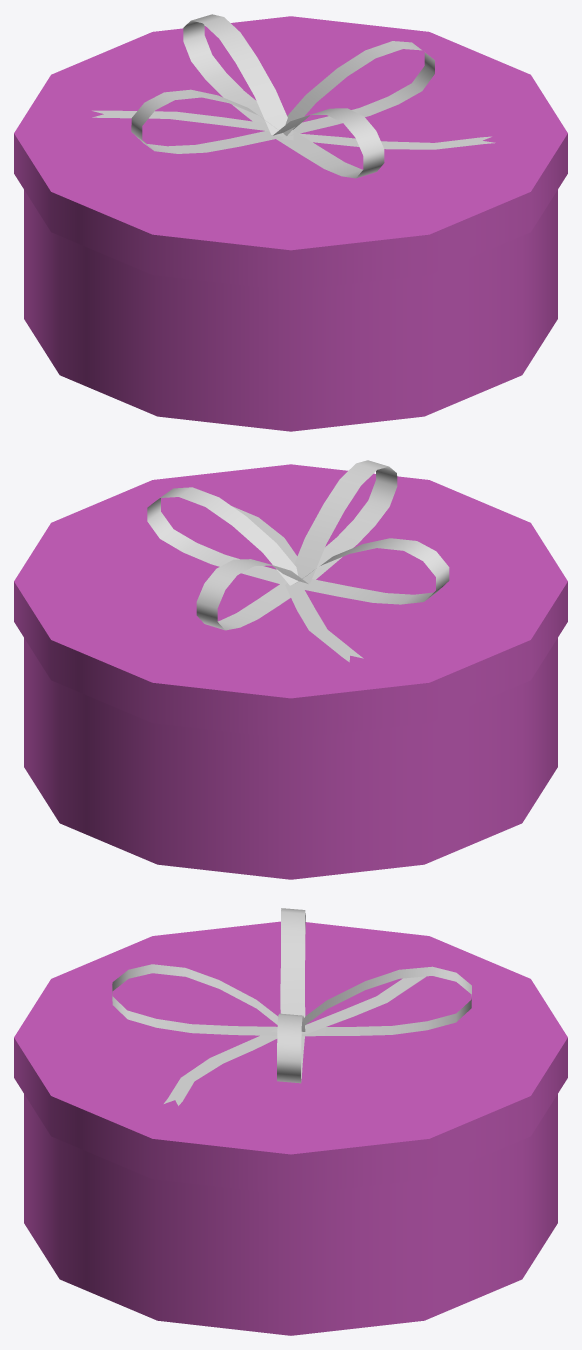
The model's file is PresentRound.fbx.
3 views of the same model, one above another, from view 1: azimuth 30°, elevation 25°; view 2: azimuth 150°, elevation 25°; view 3: azimuth 270°, elevation 25° (orthographic).
Visible parts, largest first — view 1: pLid, pBox, pBow, pRibbon; view 2: pLid, pBox, pBow, pRibbon; view 3: pLid, pBox, pBow, pRibbon.
Part boxes in pixels (x1,y1,x2,y2): pLid: (14,16,567,290); pBox: (24,190,557,431); pBow: (131,14,434,178); pRibbon: (92,110,495,149); pLid: (14,464,567,738); pBox: (24,638,557,879); pBow: (147,460,449,630); pRibbon: (232,506,363,662); pLid: (14,921,567,1194); pBox: (24,1094,557,1335); pBow: (112,908,471,1083); pRibbon: (164,976,426,1105).
Bounding box in the file's own units: 19.76 × 9.91 × 19.76.
